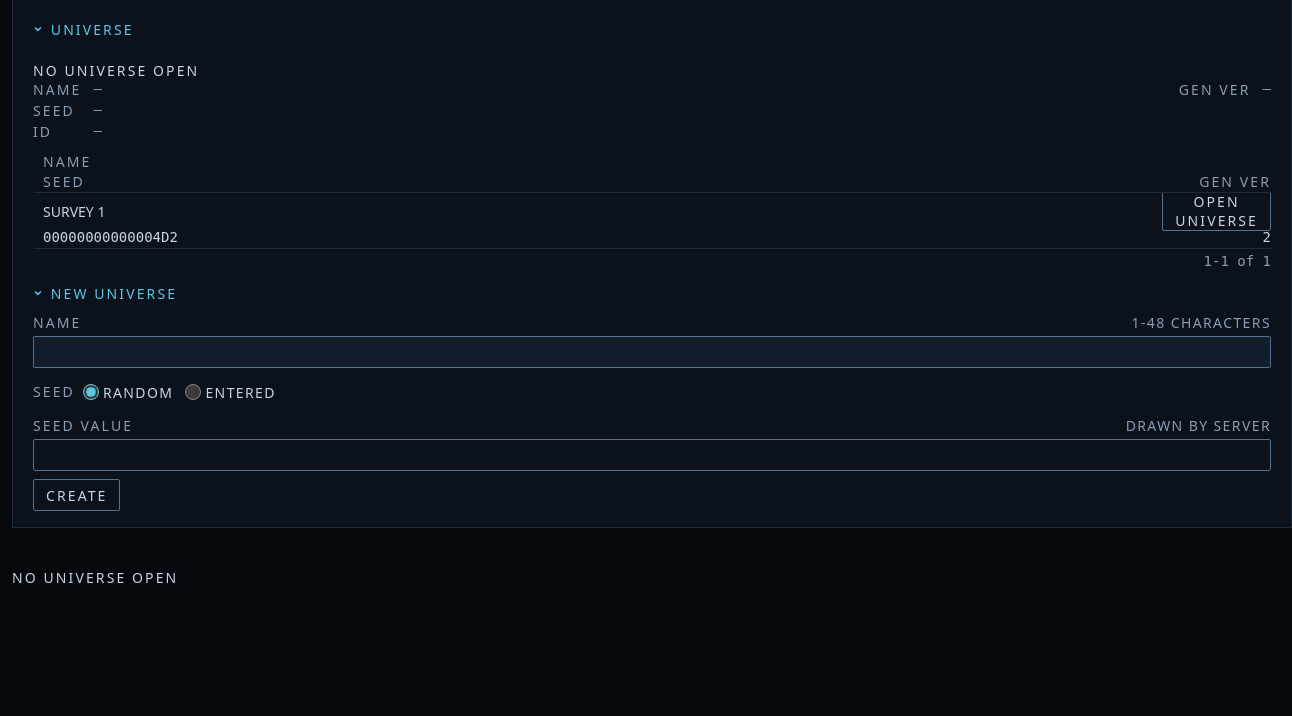
GalaxyMapPanel › gives each view a legend of its own, with its own floor
Click the button with aria-label "Open universe SURVEY 1" at (1217, 211), box [1162,191,1271,231]
(page scrolled)
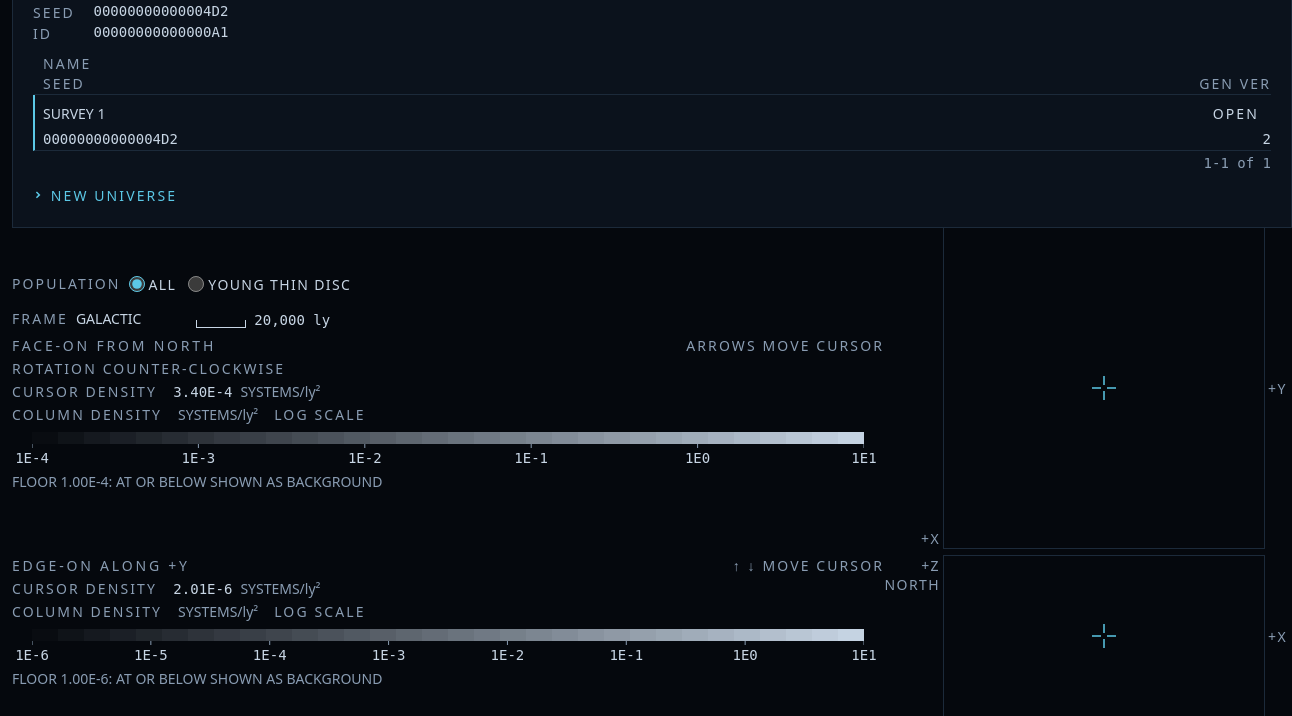
Expected: the text "FLOOR 1.00E-4: AT OR BELOW SHOWN AS BACKGROUND" is shown, [12,472,382,491]
Expected: the text "FLOOR 1.00E-6: AT OR BELOW SHOWN AS BACKGROUND" is shown, [12,669,382,688]
Expected: the text "COLUMN DENSITY" is shown once, [12,405,162,424]
